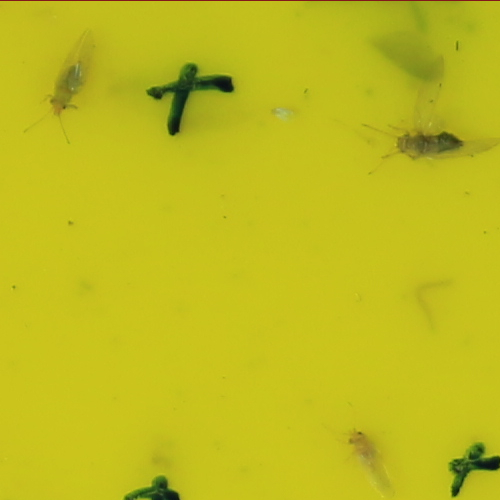Glycaspis: (50, 56, 86, 114), (394, 132, 461, 159)
